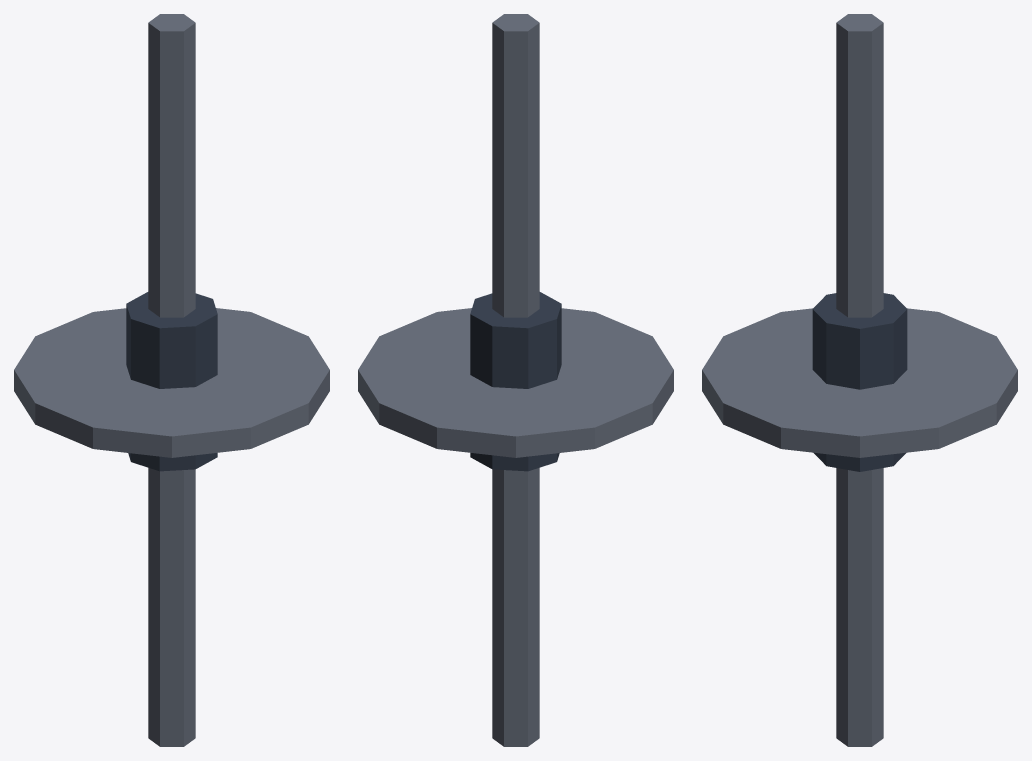
File: landing_strut.glb
3 renders of one model, left to right at view 1: azimuth 30°, elevation 25°; view 2: azimuth 150°, elevation 25°; view 3: azimuth 270°, elevation 25°, orthographic.
Parts seen in each view (by area): view 1: foot, arm, shock; view 2: foot, arm, shock; view 3: foot, arm, shock.
Boxes of the visible parts, x1,y1,x2,y2 form: foot: (14, 308, 329, 457); arm: (148, 14, 195, 746); shock: (126, 292, 217, 471); foot: (358, 308, 673, 457); arm: (492, 14, 539, 746); shock: (470, 292, 561, 471); foot: (702, 308, 1017, 457); arm: (836, 14, 883, 746); shock: (812, 293, 907, 471).
Bounding box in the file's own units: 0.8 × 2 × 0.8.
